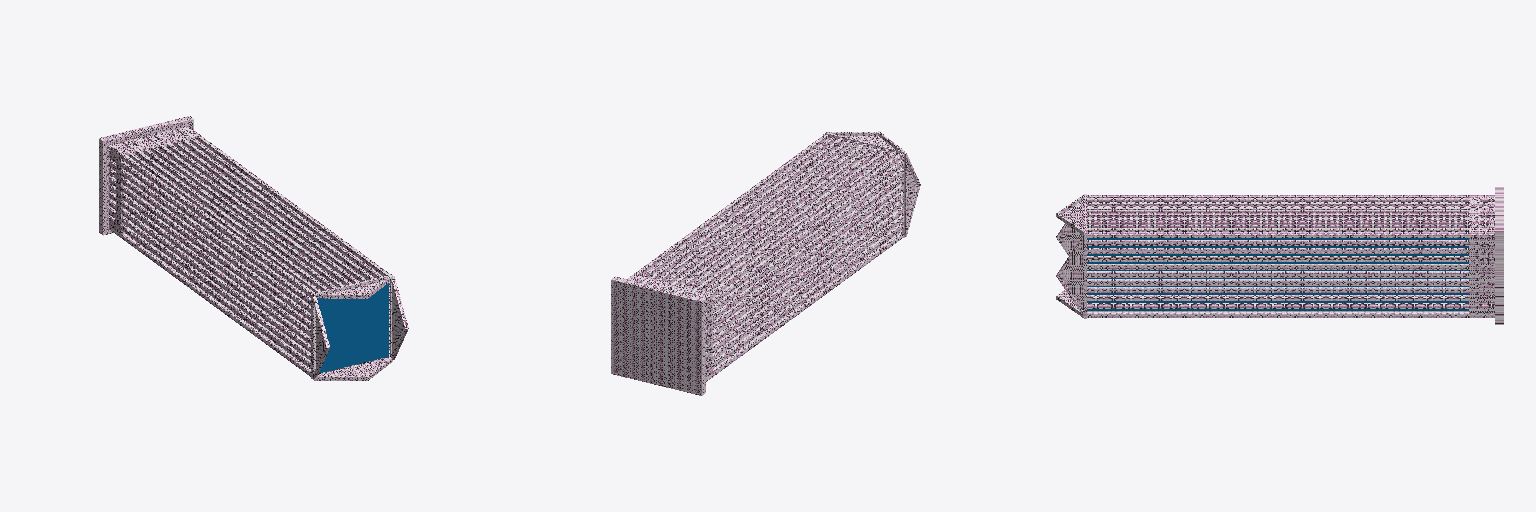
3 renders of one model, left to right at view 1: azimuth 30°, elevation 25°; view 2: azimuth 150°, elevation 25°; view 3: azimuth 270°, elevation 25°, orthographic.
Visible parts, largest first — view 1: Glass, Base, Borders0, Borders05, Borders09, Borders07, Borders03, Borders027, Borders04, Borders01, Borders08, Borders06 (+15 smaller); view 2: Base, Borders0, Borders027, Borders05, Borders09, Borders07, Borders03, Borders01, Borders04, Borders06, Borders08, Borders02 (+13 smaller); view 3: Glass, Borders012, Borders013, Borders026, Borders028, Borders016, Borders011, Borders010, Borders014, Borders0_8, Borders015, Borders0_9 (+14 smaller).
Part boxes in pixels (x1,y1,x2,y2): Glass: (317, 283, 388, 372); Base: (99, 116, 193, 235); Borders0: (109, 145, 314, 297); Borders05: (109, 184, 310, 336); Borders09: (109, 216, 310, 368); Borders07: (109, 200, 310, 352); Borders03: (109, 169, 310, 320); Borders027: (109, 226, 310, 376); Borders04: (109, 176, 310, 328); Borders01: (109, 156, 310, 305); Borders08: (109, 208, 310, 360); Borders06: (109, 196, 310, 344); Base: (611, 276, 705, 395); Borders0: (702, 153, 903, 302); Borders027: (706, 232, 903, 381); Borders05: (706, 192, 903, 341); Borders09: (706, 224, 903, 372); Borders07: (706, 208, 903, 357); Borders03: (706, 176, 903, 324); Borders01: (706, 161, 903, 310); Borders04: (706, 184, 903, 331); Borders06: (706, 200, 903, 349); Borders08: (706, 216, 903, 360); Borders02: (713, 169, 903, 312); Glass: (1087, 238, 1468, 310); Borders012: (1087, 271, 1494, 277); Borders013: (1087, 279, 1494, 285); Borders026: (1087, 232, 1494, 237); Borders028: (1087, 312, 1494, 317); Borders016: (1087, 303, 1494, 308); Borders011: (1087, 264, 1494, 269); Borders010: (1087, 256, 1494, 261); Borders014: (1087, 287, 1494, 292); Borders0_8: (1087, 240, 1494, 245); Borders015: (1087, 295, 1494, 300); Borders0_9: (1087, 248, 1468, 253).
Size of the model in its own units: 1136 by 1125 by 4835.
2 materials, 1 textured.